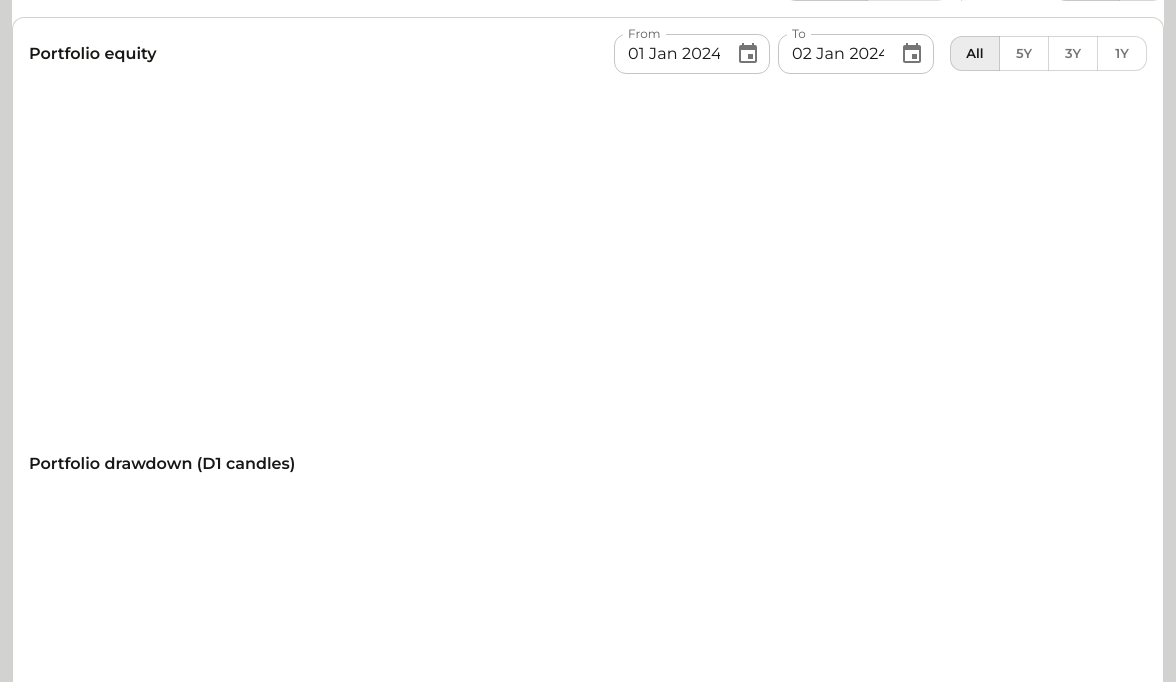
Test: PortfolioTab › applies custom chart dates to the portfolio analytics sections
Replace the text in the field named "Portfolio equity date range start date value" with "02 Jan 2024" at coordinates (644, 33), box 628,25 -> 660,42
(page scrolled)
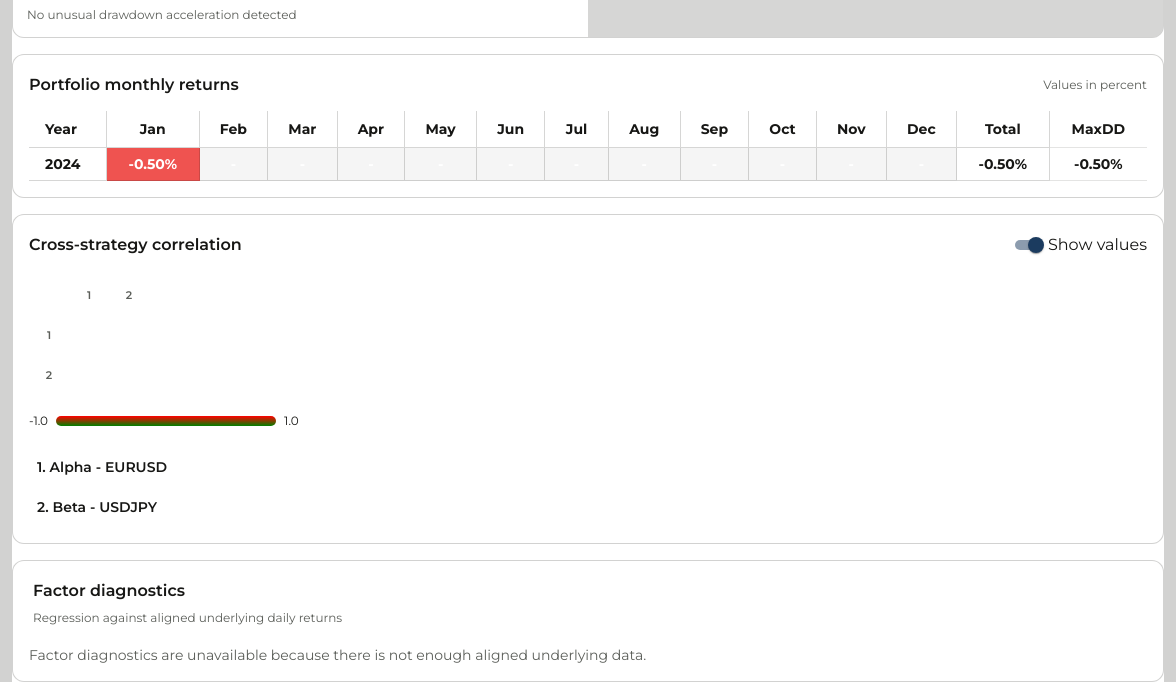
Now the text "not enough aligned underlying data" is shown, box 29,646 -> 646,664
